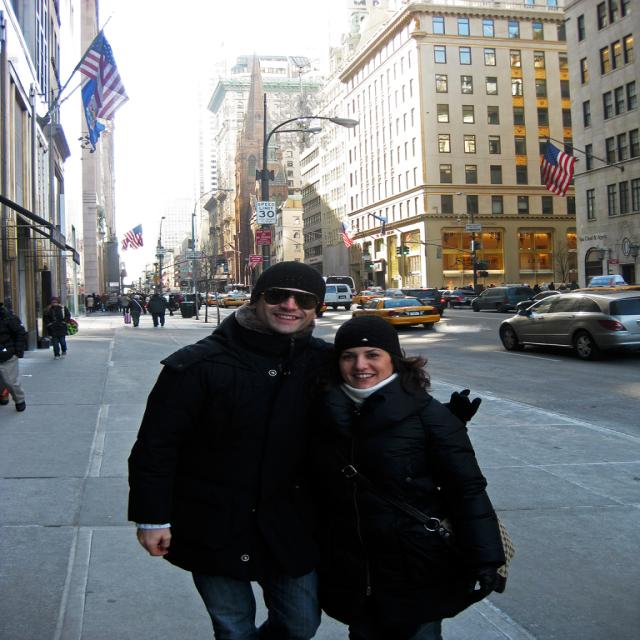car: (492, 284, 631, 357), (345, 296, 441, 338), (509, 284, 559, 317), (477, 288, 536, 308), (220, 287, 250, 304)
